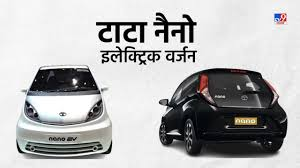Nano: (159, 67, 288, 160), (15, 63, 112, 156)
